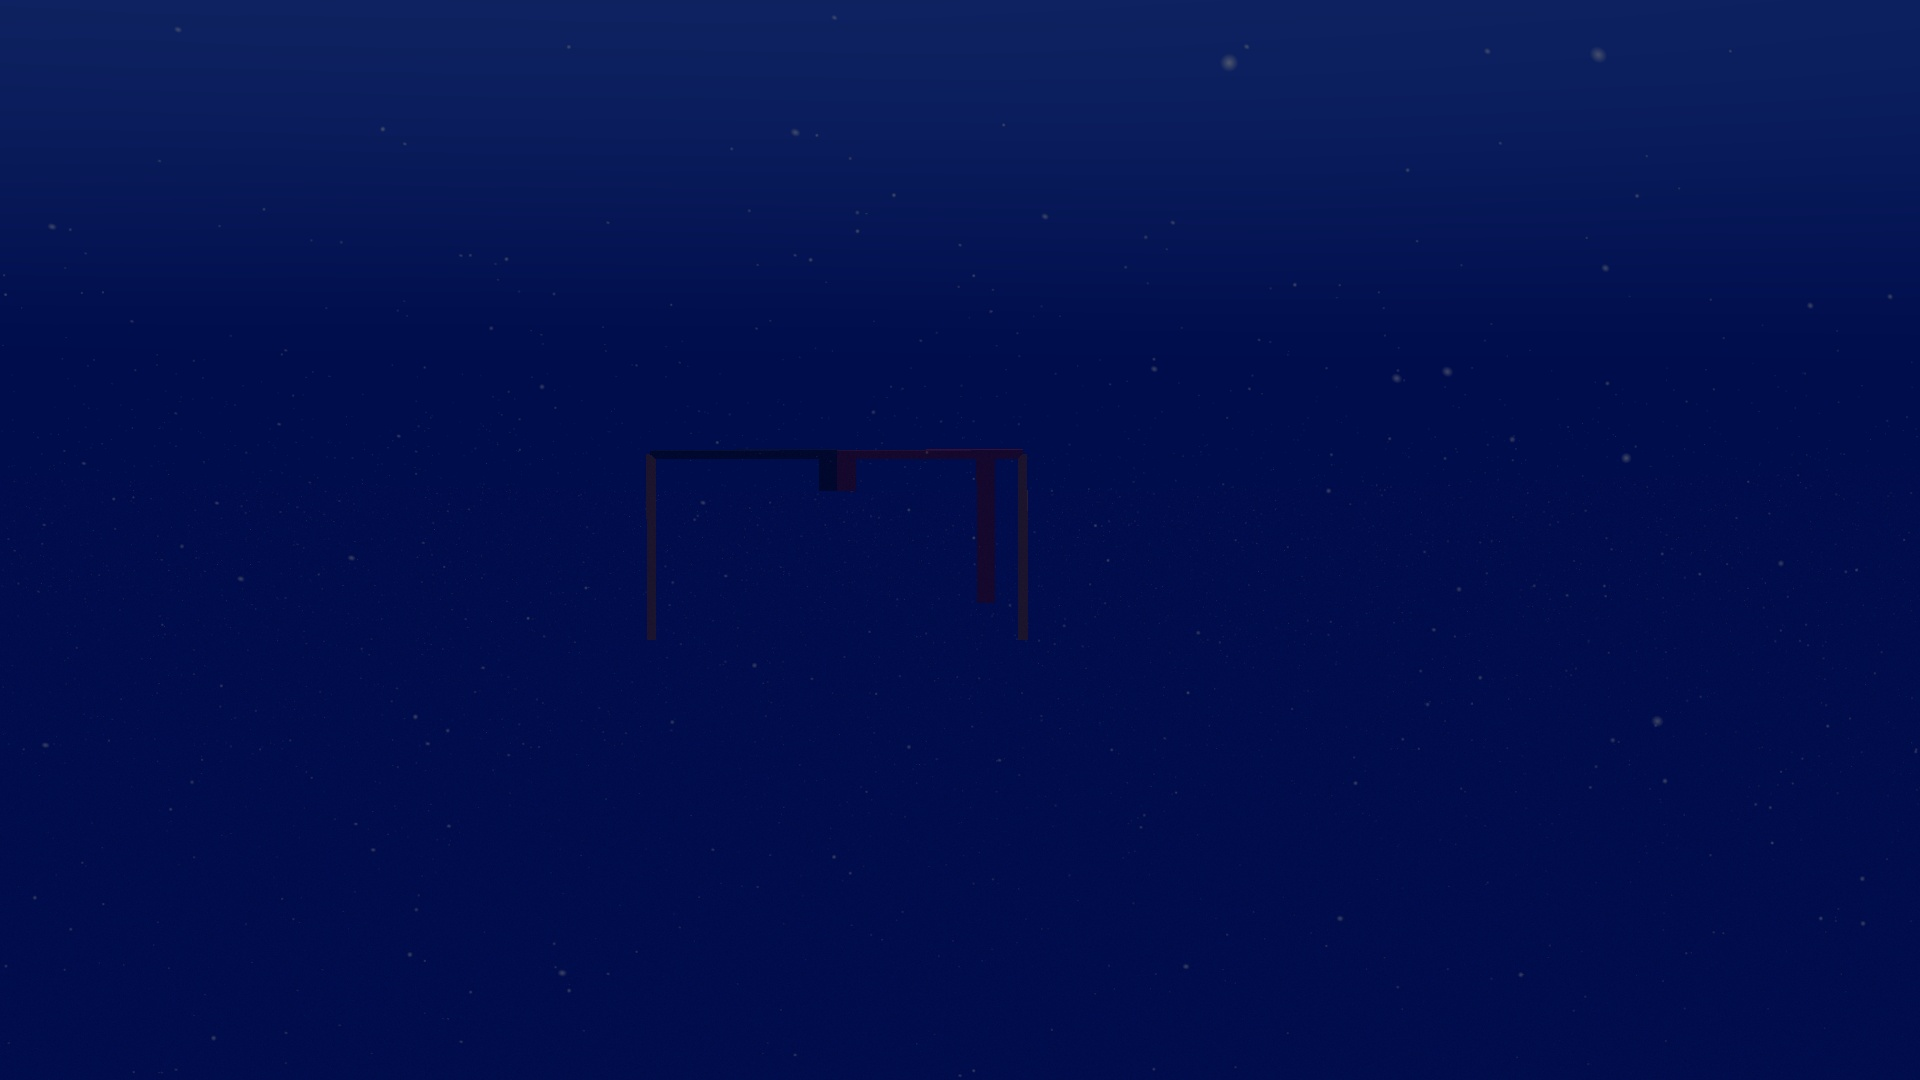Gate: (636, 442, 1036, 650)
